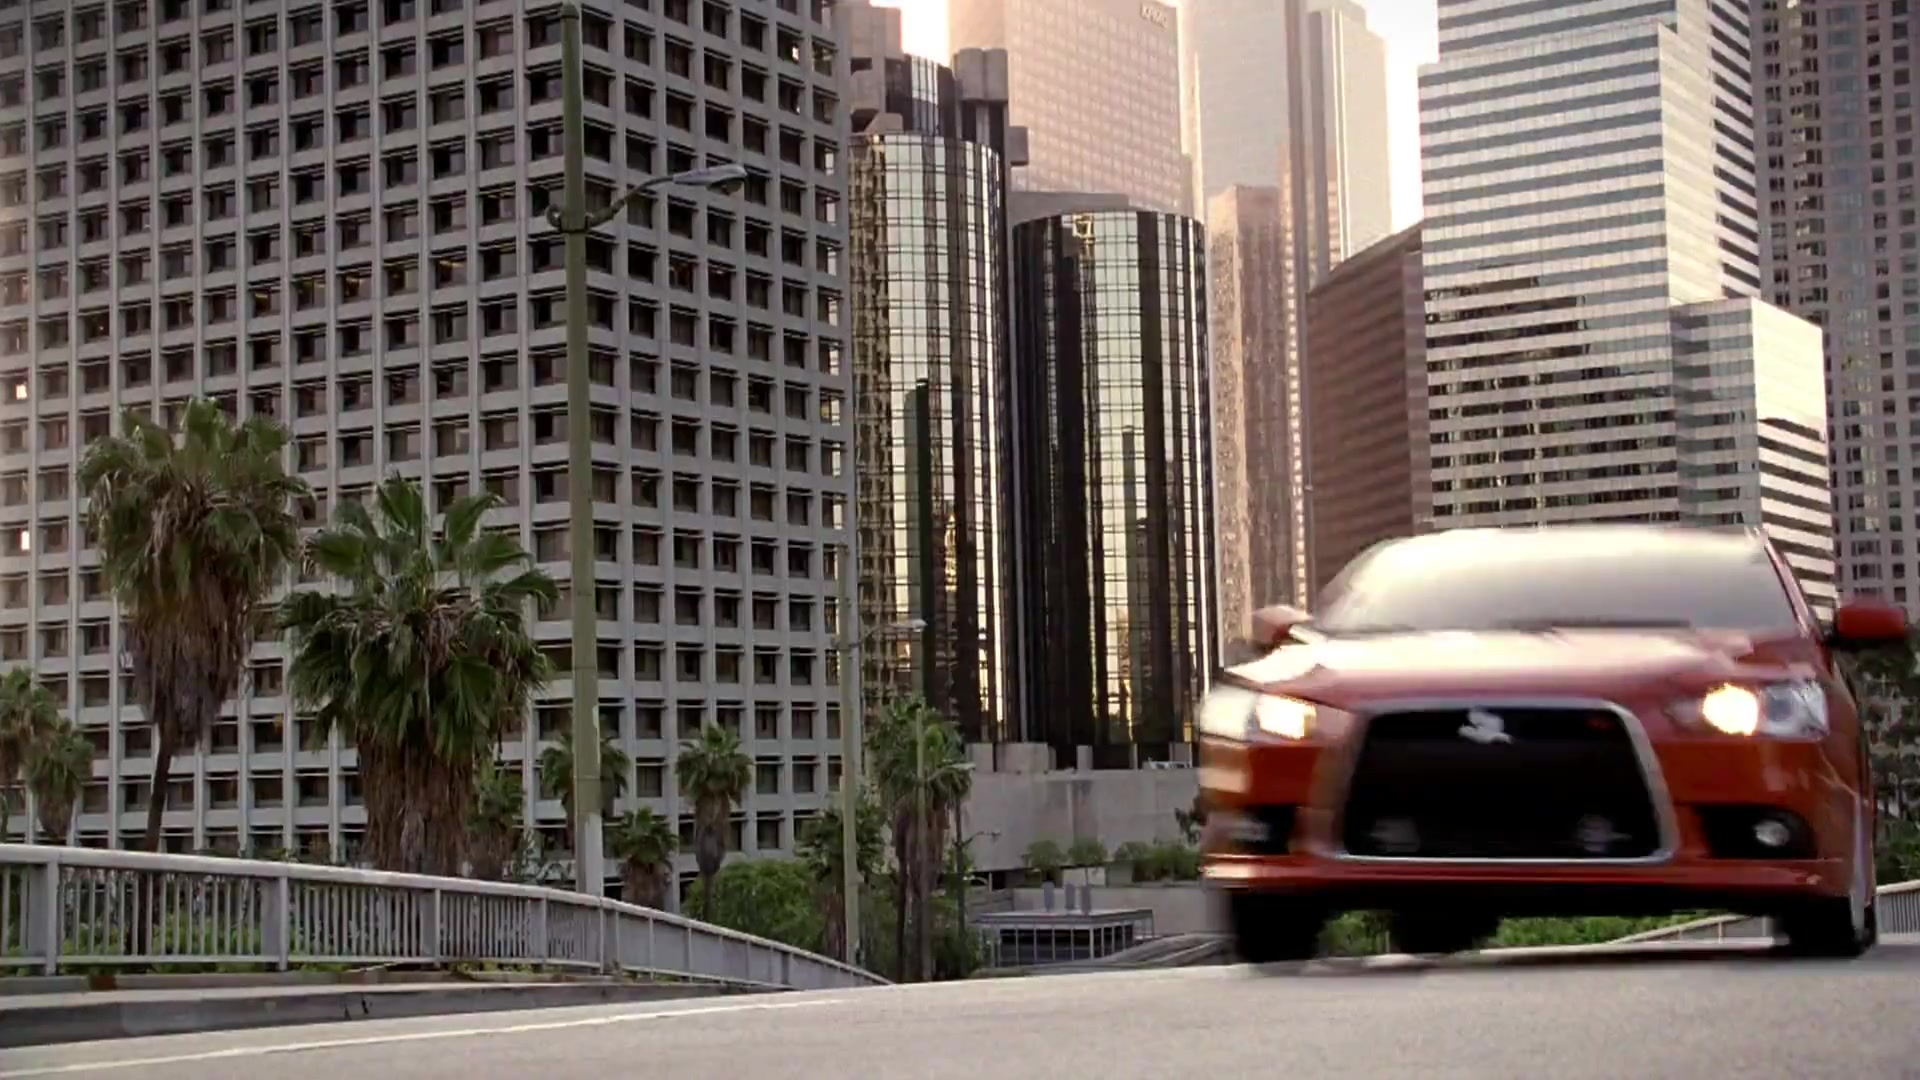car: (1183, 510, 1905, 971)
